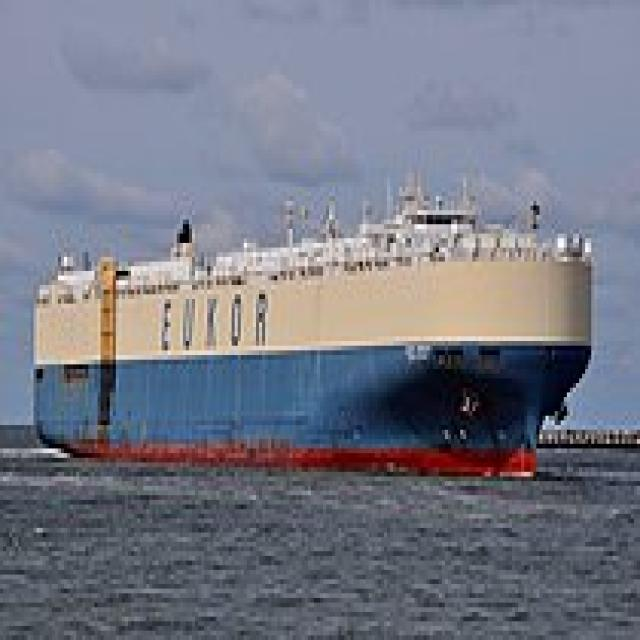Carrier: (24, 150, 594, 477)
